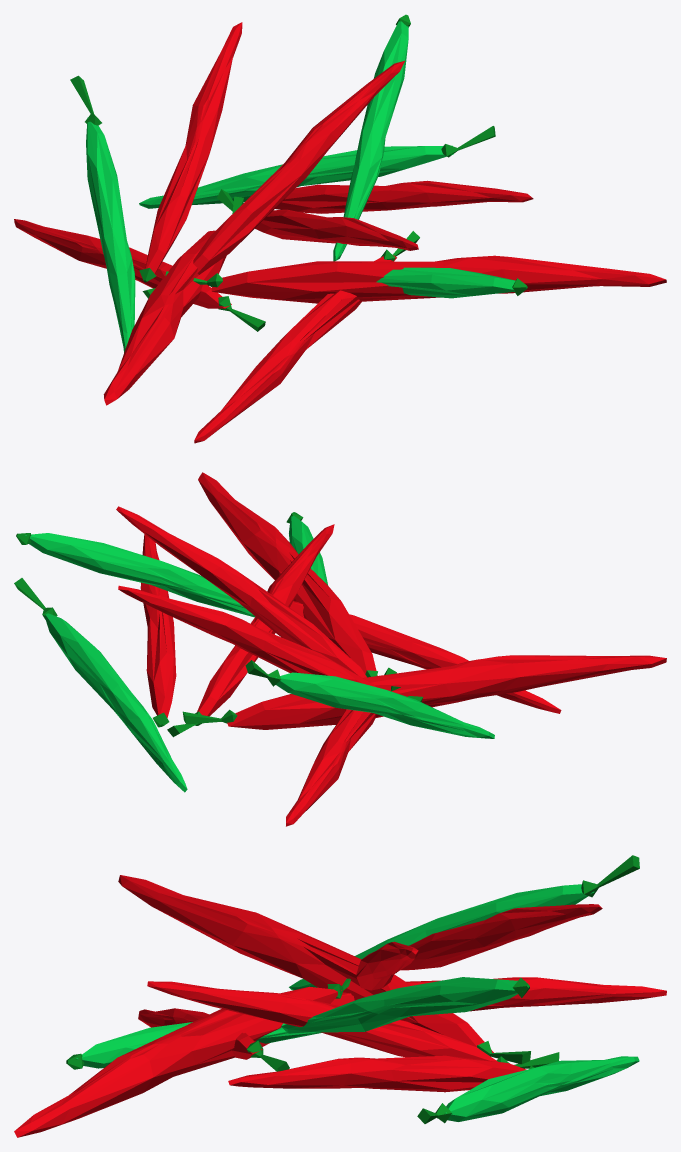
File: Spice.dae
3 renders of one model, top to bottom at view 1: azimuth 30°, elevation 25°; view 2: azimuth 150°, elevation 25°; view 3: azimuth 270°, elevation 25°, orthographic. The views are drawn at different scales.
Parts seen in each view (by area): view 1: Sphere_023, Sphere_019, Sphere_016, Sphere_010, Sphere_015, Sphere_022, Sphere_007, Sphere_021, Sphere_009, Sphere_004, Sphere_002, Sphere_001; view 2: Sphere_010, Sphere_023, Sphere_019, Sphere_021, Sphere_016, Sphere_015, Sphere_009, Sphere_004, Sphere_022, Sphere_007, Sphere_001, Sphere_002; view 3: Sphere_010, Sphere_023, Sphere_007, Sphere_004, Sphere_021, Sphere_009, Sphere_016, Sphere_001, Sphere_015, Sphere_002, Sphere_019, Sphere_022 (+3 smaller).
Part boxes in pixels (x1=…): Sphere_023: x1=211, y1=255, x2=666, y2=303; Sphere_019: x1=193, y1=61, x2=404, y2=274; Sphere_016: x1=145, y1=22, x2=242, y2=273; Sphere_010: x1=103, y1=230, x2=226, y2=405; Sphere_015: x1=86, y1=117, x2=135, y2=352; Sphere_022: x1=194, y1=255, x2=396, y2=443; Sphere_007: x1=275, y1=180, x2=533, y2=213; Sphere_021: x1=333, y1=21, x2=408, y2=261; Sphere_009: x1=139, y1=145, x2=453, y2=208; Sphere_004: x1=255, y1=209, x2=418, y2=250; Sphere_002: x1=376, y1=267, x2=515, y2=298; Sphere_001: x1=14, y1=219, x2=231, y2=308; Sphere_010: x1=227, y1=655, x2=666, y2=729; Sphere_023: x1=198, y1=472, x2=377, y2=675; Sphere_019: x1=116, y1=506, x2=366, y2=677; Sphere_021: x1=24, y1=533, x2=255, y2=617; Sphere_016: x1=118, y1=585, x2=375, y2=686; Sphere_015: x1=275, y1=672, x2=494, y2=738; Sphere_009: x1=43, y1=611, x2=187, y2=792; Sphere_004: x1=197, y1=524, x2=334, y2=716; Sphere_022: x1=290, y1=601, x2=561, y2=713; Sphere_007: x1=140, y1=534, x2=176, y2=717; Sphere_001: x1=286, y1=709, x2=375, y2=826; Sphere_002: x1=289, y1=516, x2=327, y2=584; Sphere_010: x1=118, y1=875, x2=493, y2=1052; Sphere_023: x1=14, y1=986, x2=341, y2=1137; Sphere_007: x1=228, y1=1055, x2=526, y2=1092; Sphere_004: x1=147, y1=981, x2=497, y2=1061; Sphere_021: x1=281, y1=977, x2=525, y2=1033; Sphere_009: x1=437, y1=1056, x2=639, y2=1121; Sphere_016: x1=400, y1=904, x2=602, y2=970; Sphere_001: x1=331, y1=977, x2=666, y2=1011; Sphere_015: x1=289, y1=883, x2=594, y2=990; Sphere_002: x1=76, y1=1022, x2=321, y2=1068; Sphere_019: x1=356, y1=941, x2=418, y2=990; Sphere_022: x1=138, y1=1008, x2=262, y2=1059.
Size of the model in its own units: 1.46 by 1.36 by 0.5729.
